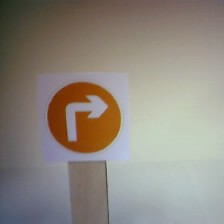right: (41, 72, 128, 160)
